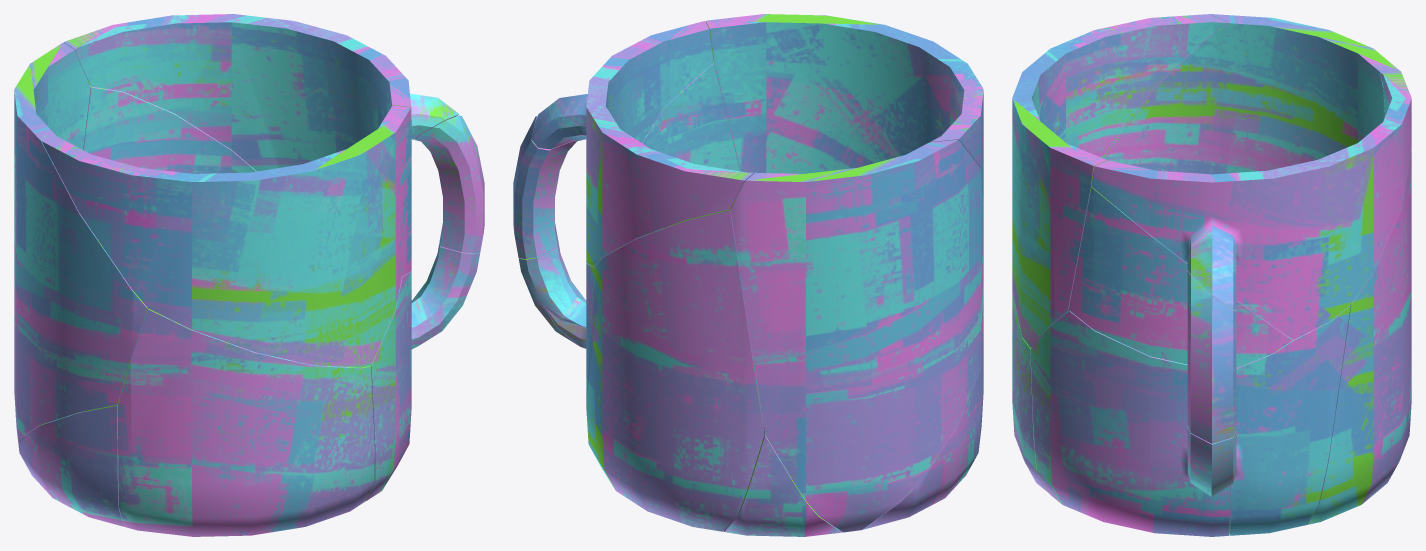
File: CystalMug.obj
3 views of the same model, side by side, from view 1: azimuth 30°, elevation 25°; view 2: azimuth 150°, elevation 25°; view 3: azimuth 270°, elevation 25° (orthographic).
Visible parts, largest first — view 1: CystalMug_cell.003, CystalMug_cell.005, CystalMug_cell, CystalMug_cell.004, CystalMug_cell.006, CystalMug_cell.009, CystalMug_cell.007, CystalMug_cell.010, CystalMug_cell.001; view 2: CystalMug_cell.004, CystalMug_cell.009, CystalMug_cell.003, CystalMug_cell, CystalMug_cell.001, CystalMug_cell.002, CystalMug_cell.010, CystalMug_cell.007, CystalMug_cell.006, CystalMug_cell.008; view 3: CystalMug_cell, CystalMug_cell.006, CystalMug_cell.004, CystalMug_cell.003, CystalMug_cell.008, CystalMug_cell.009, CystalMug_cell.001, CystalMug_cell.010, CystalMug_cell.005.
Part boxes in pixels (x1=…): CystalMug_cell.003: x1=41, y1=105, x2=410, y2=367; CystalMug_cell.005: x1=118, y1=309, x2=374, y2=536; CystalMug_cell: x1=64, y1=14, x2=458, y2=171; CystalMug_cell.004: x1=14, y1=42, x2=148, y2=442; CystalMug_cell.006: x1=366, y1=242, x2=479, y2=500; CystalMug_cell.009: x1=83, y1=85, x2=256, y2=173; CystalMug_cell.007: x1=18, y1=405, x2=123, y2=526; CystalMug_cell.010: x1=415, y1=115, x2=484, y2=253; CystalMug_cell.001: x1=402, y1=130, x2=411, y2=276; CystalMug_cell.004: x1=730, y1=139, x2=983, y2=532; CystalMug_cell.009: x1=586, y1=210, x2=764, y2=531; CystalMug_cell.003: x1=705, y1=14, x2=983, y2=200; CystalMug_cell: x1=531, y1=21, x2=753, y2=266; CystalMug_cell.001: x1=642, y1=63, x2=739, y2=171; CystalMug_cell.002: x1=723, y1=424, x2=842, y2=536; CystalMug_cell.010: x1=513, y1=116, x2=582, y2=258; CystalMug_cell.007: x1=863, y1=332, x2=982, y2=529; CystalMug_cell.006: x1=518, y1=238, x2=586, y2=348; CystalMug_cell.008: x1=545, y1=263, x2=594, y2=395; CystalMug_cell: x1=1091, y1=71, x2=1411, y2=339; CystalMug_cell.006: x1=1030, y1=311, x2=1236, y2=536; CystalMug_cell.004: x1=1103, y1=14, x2=1400, y2=174; CystalMug_cell.003: x1=1012, y1=14, x2=1228, y2=347; CystalMug_cell.008: x1=1229, y1=305, x2=1350, y2=535; CystalMug_cell.009: x1=1307, y1=149, x2=1411, y2=524; CystalMug_cell.001: x1=1068, y1=187, x2=1292, y2=367; CystalMug_cell.010: x1=1187, y1=271, x2=1236, y2=443; CystalMug_cell.005: x1=1012, y1=293, x2=1048, y2=492.
Size of the model in its own units: 1.33 by 1.03 by 1.04.
